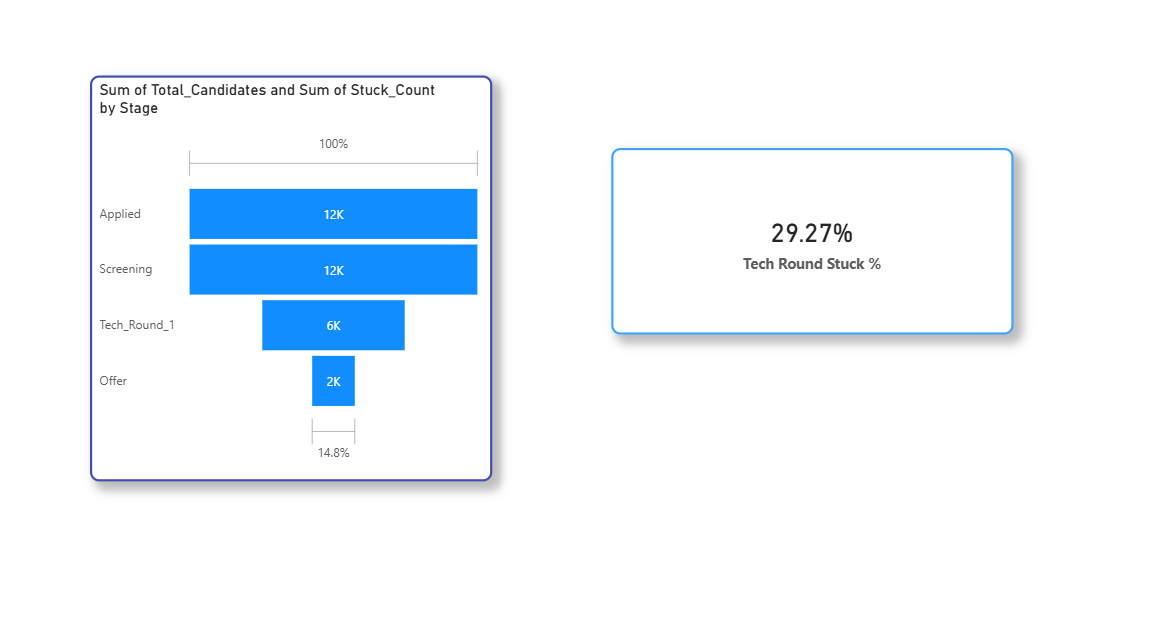

The dashboard page shown, as its layout file describes it:
{"tool":"powerbi","page":{"name":"Page 1","canvas":[1280,720],"ordinal":0},"visuals":[{"type":"funnel","fields":{"Category":["Bottleneck_Analysis.Stage"],"Y":["Sum(Bottleneck_Analysis.Total_Candidates)"]},"box":[109.8,90.6,441.9,446],"z":0},{"type":"card","fields":{"Values":["Bottleneck_Analysis.Tech Round Stuck %"]},"box":[682,170.2,441.9,204.5],"z":1000}]}

Visuals, with their boxes in screenshot pixels (x1, y1, x2, y2), scaled from the page's 1280x720 canvas onto the 1152x641 screenshot:
funnel - Bottleneck_Analysis.Stage x Sum(Bottleneck_Analysis.Total_Candidates): l=99, t=81, r=497, b=478
card - Bottleneck_Analysis.Tech Round Stuck %: l=614, t=152, r=1012, b=334
